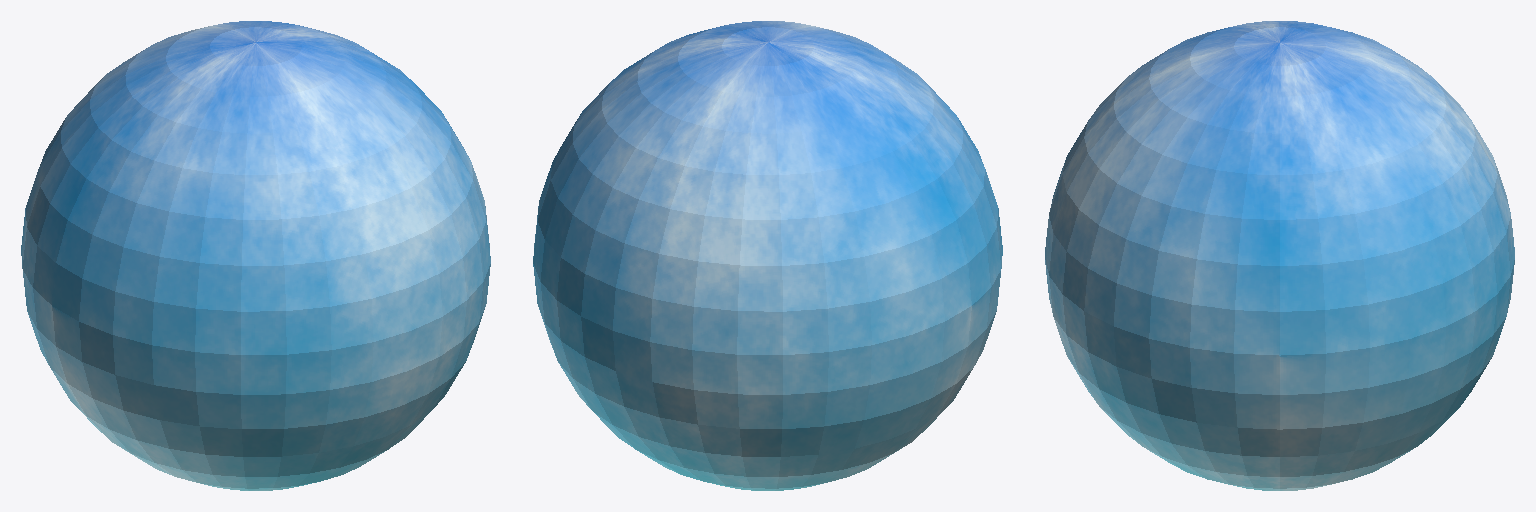
The picture shows the model from 3 angles: view 1: azimuth 30°, elevation 25°; view 2: azimuth 150°, elevation 25°; view 3: azimuth 270°, elevation 25°; orthographic projection.
Parts seen in each view (by area): view 1: 球; view 2: 球; view 3: 球.
Boxes of the visible parts, x1,y1,x2,y2 form: 球: [21, 21, 490, 490]; 球: [533, 21, 1002, 490]; 球: [1045, 21, 1514, 490].
Bounding box in the file's own units: 2000 × 2000 × 2000.
Materials: 1 (1 with a texture image).